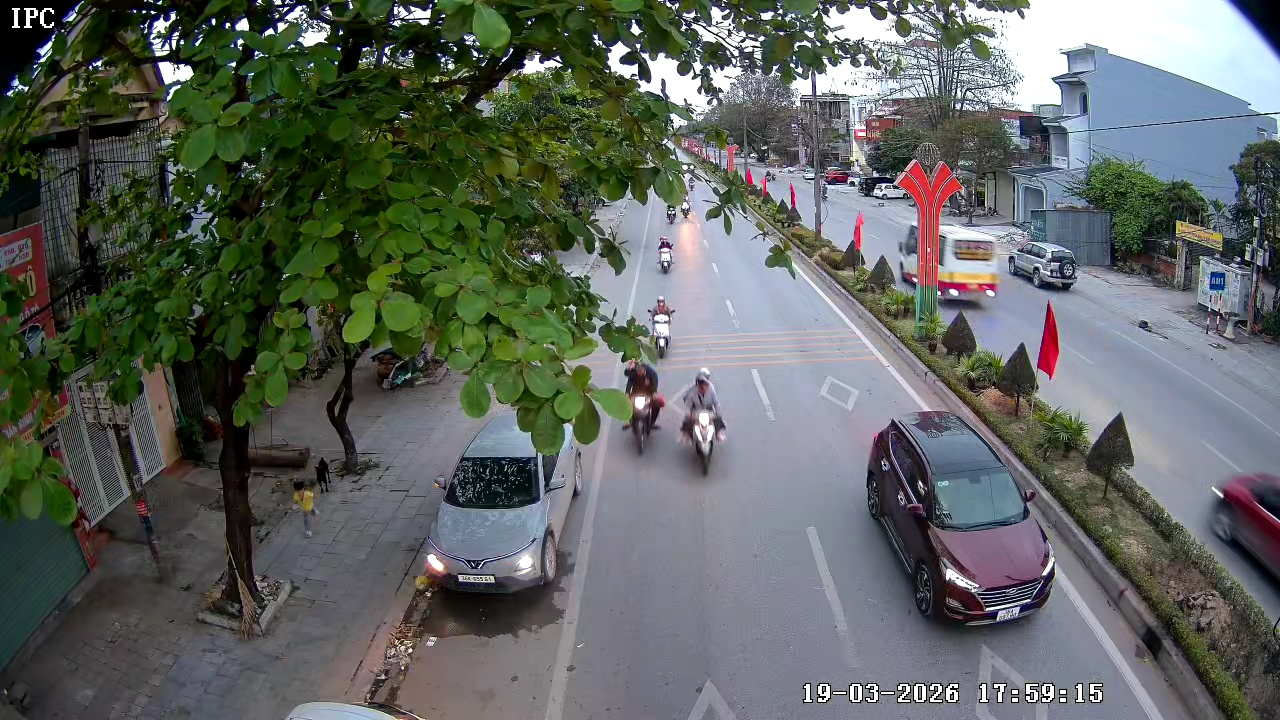car: (866, 408, 1057, 623), (423, 409, 597, 597), (1209, 470, 1279, 597), (937, 228, 999, 308), (1007, 240, 1081, 290)
motorbike: (674, 366, 730, 478), (619, 355, 666, 456), (646, 293, 677, 360), (655, 234, 676, 274)
